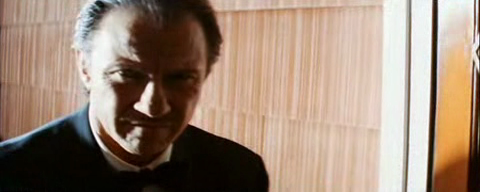cu: (1, 1, 480, 192)
face: (93, 23, 207, 156)
person: (1, 1, 269, 192)
